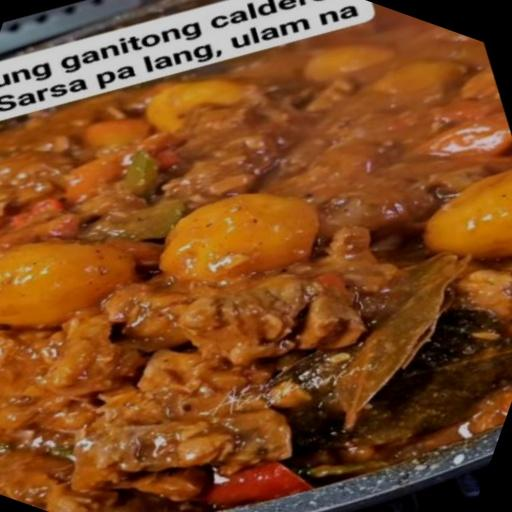pork caldereta: (0, 10, 511, 511)
